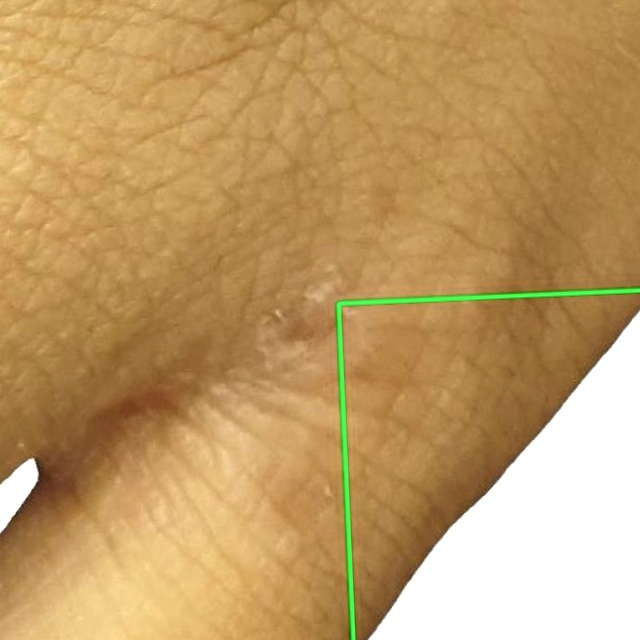Scabies: (338, 290, 639, 639)
